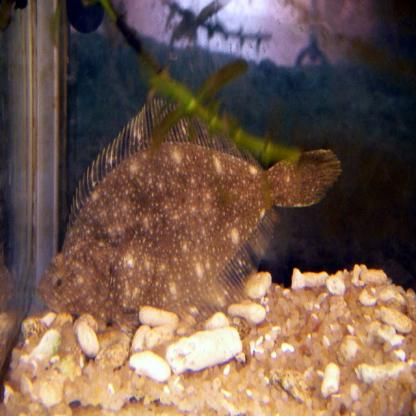flounder: (33, 91, 352, 333)
